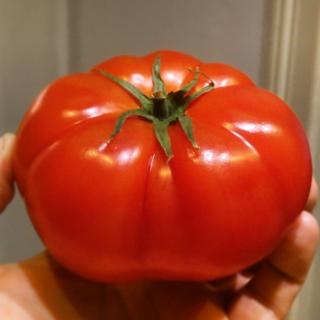tomato: (10, 45, 314, 289)
